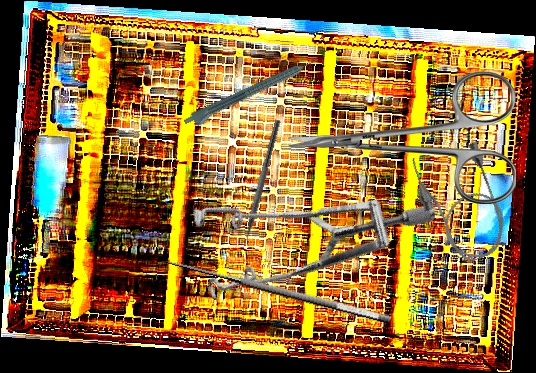Cannula: (404, 133, 518, 272)
Chopper: (233, 117, 282, 252)
Handpiece: (182, 54, 323, 133)
Hook Surgical: (155, 251, 392, 344)
Iris Scissors: (288, 71, 516, 204)
Speculum: (163, 119, 439, 367)
